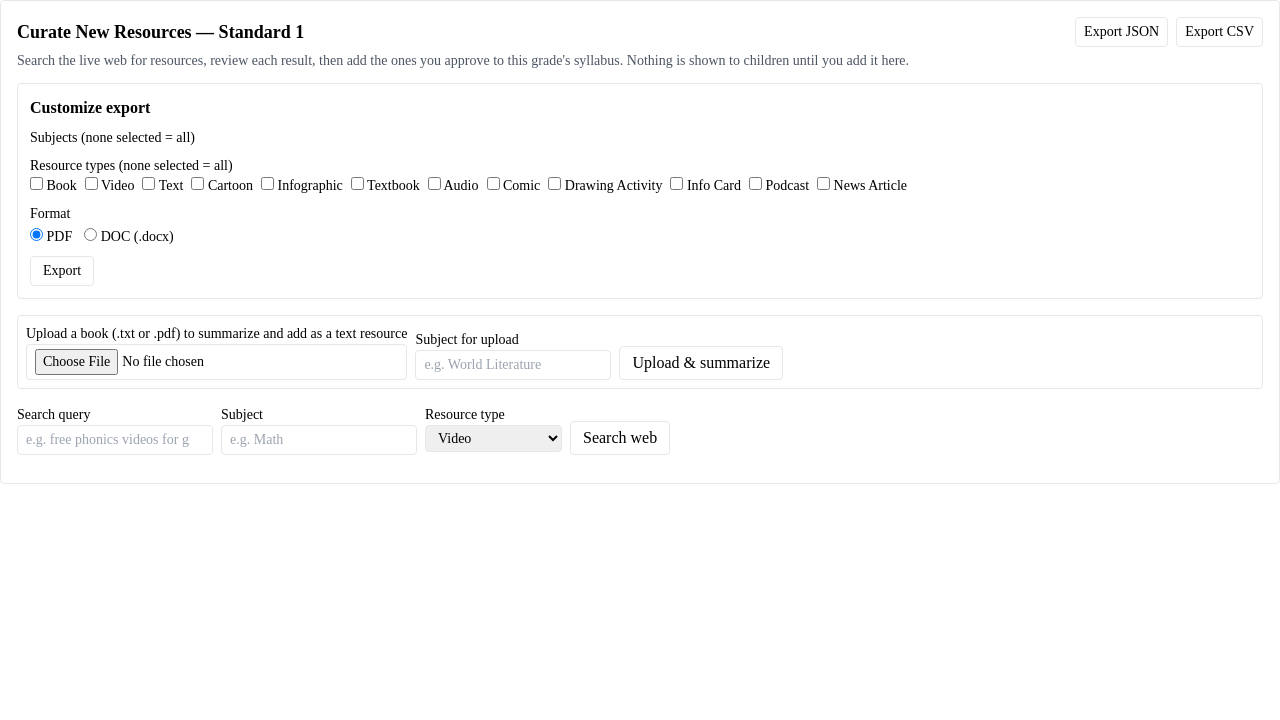
Scenario: ParentCuration › searches the web and lists results for review
The image size is (1280, 720).
Type "math games" into the search field labelled "Search query" at (115, 440), box [17,425,213,455]
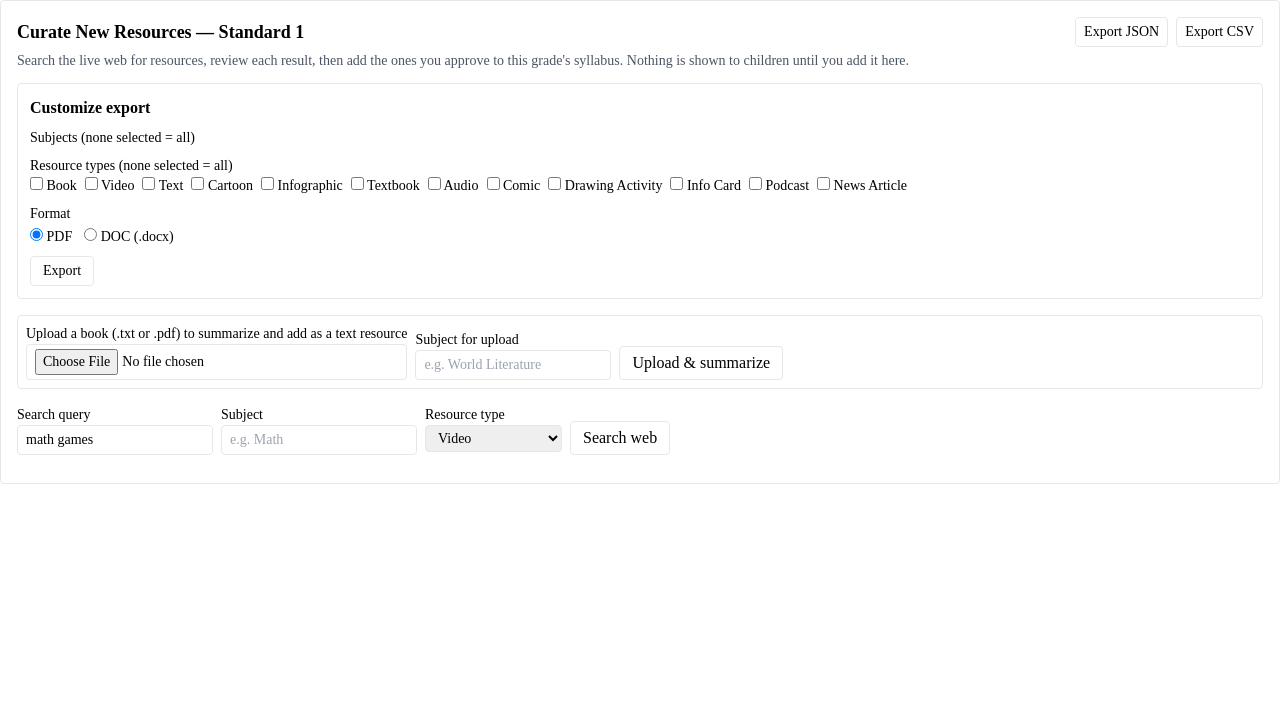
Click the button "Search web" at (620, 438), box [570,421,670,455]
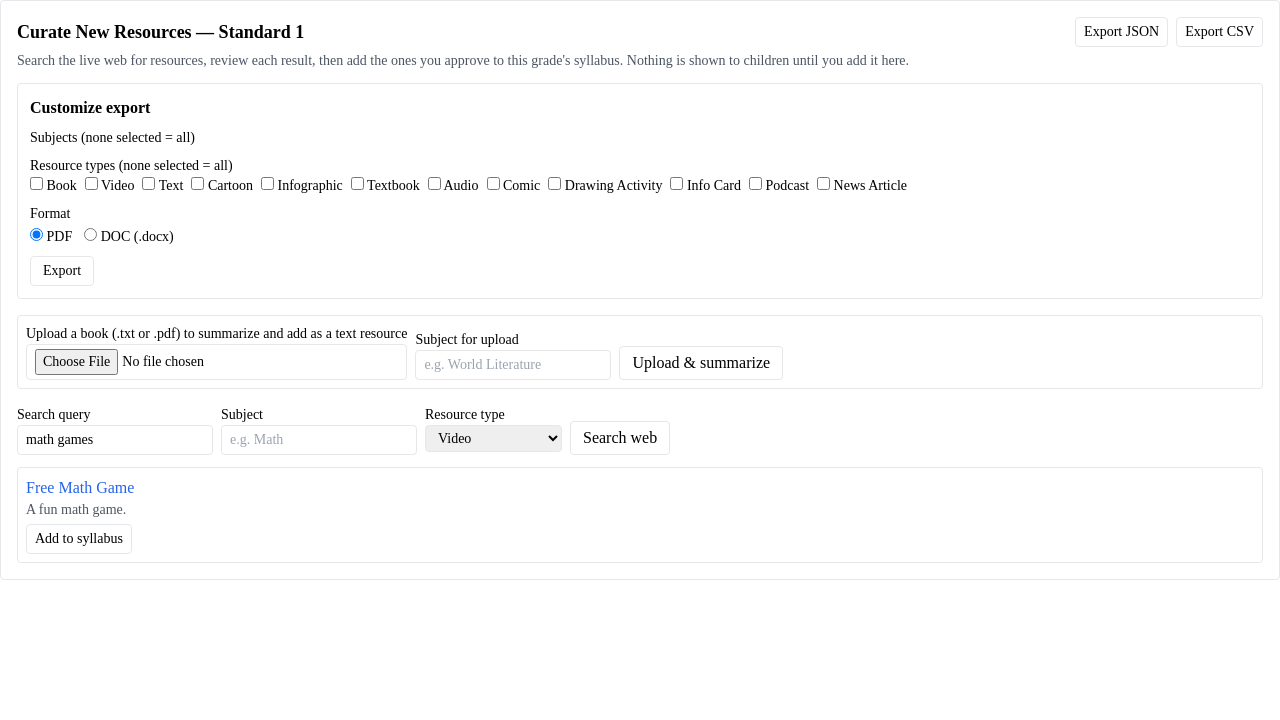
Expected: the link "Free Math Game" is shown, [26,479,134,496]
